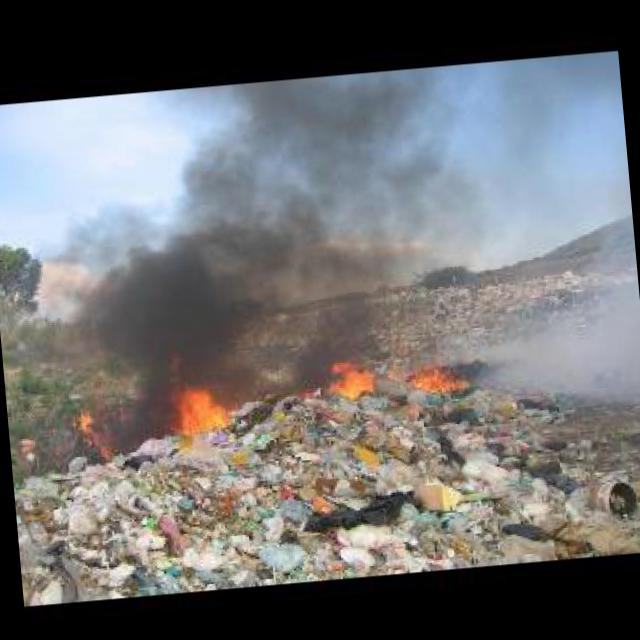fire: (168, 379, 232, 442), (317, 349, 379, 400), (406, 358, 468, 400), (78, 410, 115, 465)
smoke: (180, 66, 484, 376), (42, 185, 298, 429)
